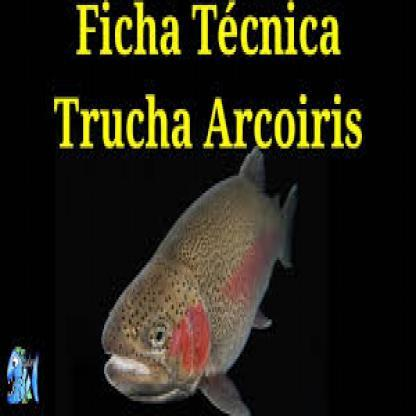fish: (102, 144, 298, 414)
